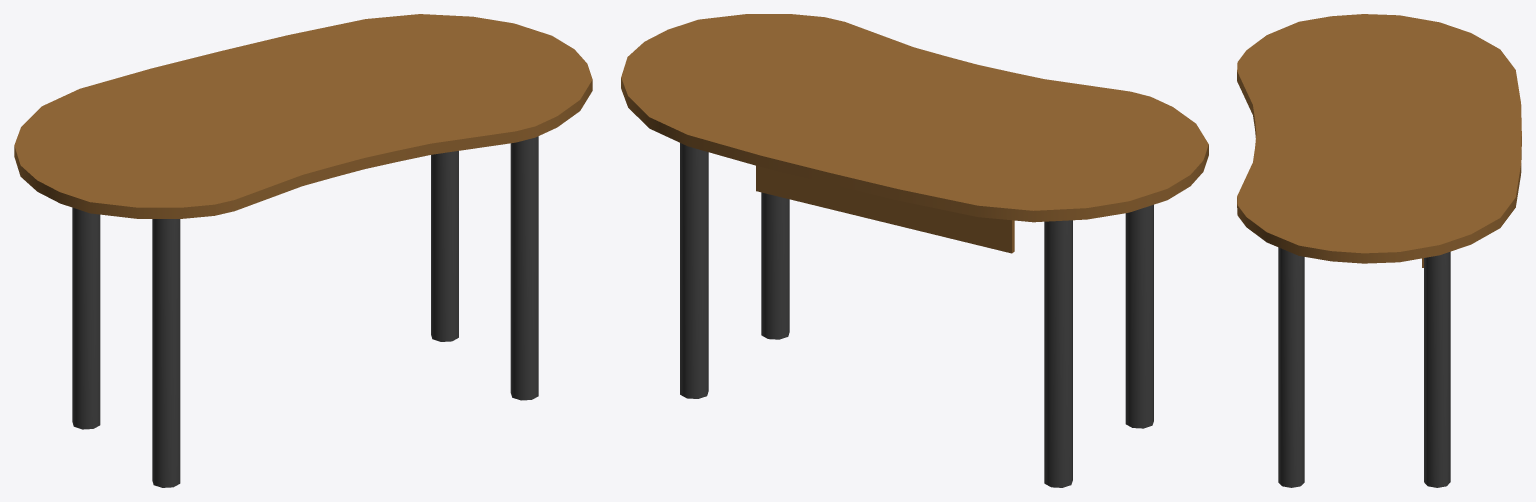
Rendered from MesaOval.fbx.
3 renders of one model, left to right at view 1: azimuth 30°, elevation 25°; view 2: azimuth 150°, elevation 25°; view 3: azimuth 270°, elevation 25°, orthographic. The views are drawn at different scales.
Visible parts, largest first — view 1: MesaOval; view 2: MesaOval; view 3: MesaOval.
Boxes of the visible parts, x1,y1,x2,y2 form: MesaOval: [14, 14, 592, 487]; MesaOval: [621, 14, 1208, 487]; MesaOval: [1237, 14, 1521, 487].
Size of the model in its own units: 1.5 by 0.785 by 0.7537.
